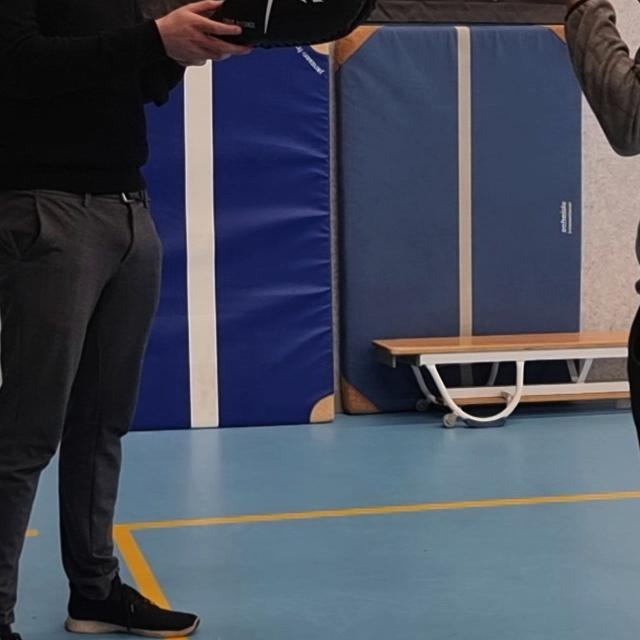paddle: (204, 0, 382, 47)
